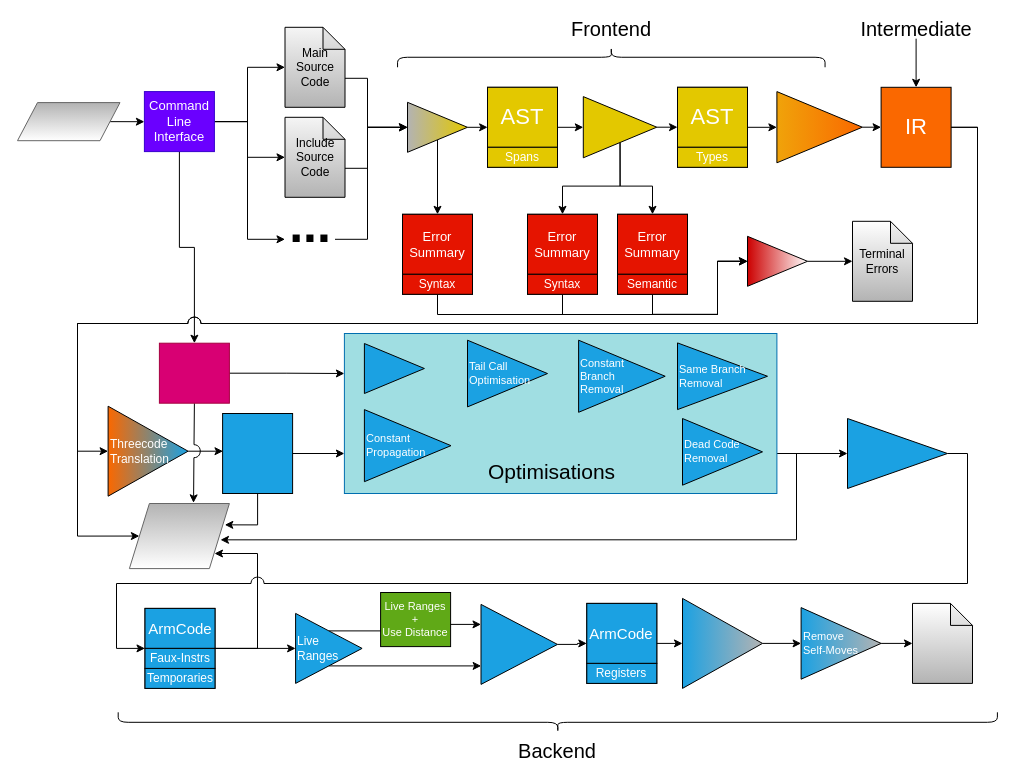
Image size: 1015x780. Some labels were removed from this diagram. The box of each missing label's shape, as (x1, y1, x2, y2) in pixels:
Arm Graph Traversal: (682, 597, 762, 688)
Arm Translation: (846, 418, 948, 488)
Backend Options: (158, 342, 229, 403)
Errors: (746, 235, 808, 286)
Inlining: (363, 342, 424, 394)
IR Translation: (776, 91, 862, 163)
IRs print: (128, 502, 229, 569)
Output Assembly: (912, 602, 972, 683)
Parser: (406, 101, 468, 152)
Register Allocation: (480, 603, 558, 684)
Semantic Analyser: (582, 96, 657, 158)
Terminal: (16, 102, 120, 141)
Three Code: (222, 412, 293, 494)
